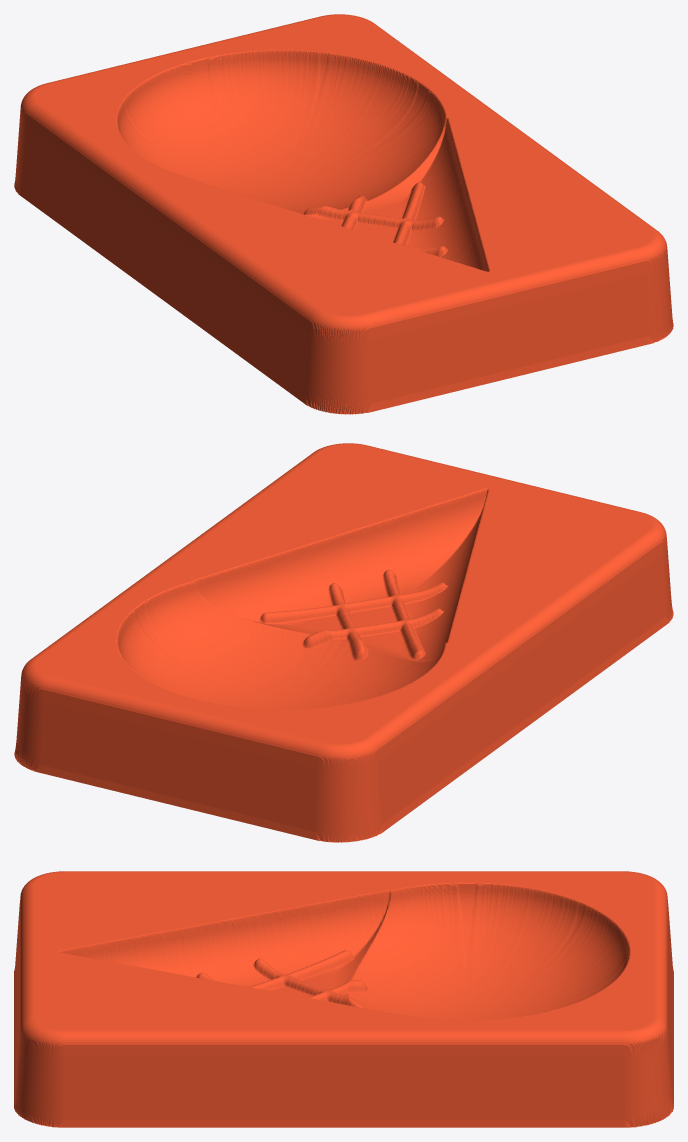
File: mold.glb
The picture shows the model from 3 angles, top to bottom: view 1: azimuth 30°, elevation 25°; view 2: azimuth 150°, elevation 25°; view 3: azimuth 270°, elevation 25°; orthographic projection.
Parts seen in each view (by area): view 1: geometry_0; view 2: geometry_0; view 3: geometry_0.
Boxes of the visible parts, left/top/right/bottom form: geometry_0: left=14, top=14, right=673, bottom=414; geometry_0: left=14, top=443, right=673, bottom=842; geometry_0: left=14, top=871, right=673, bottom=1127.
Bounding box in the file's own units: 0.0738 × 0.0175 × 0.1178.
